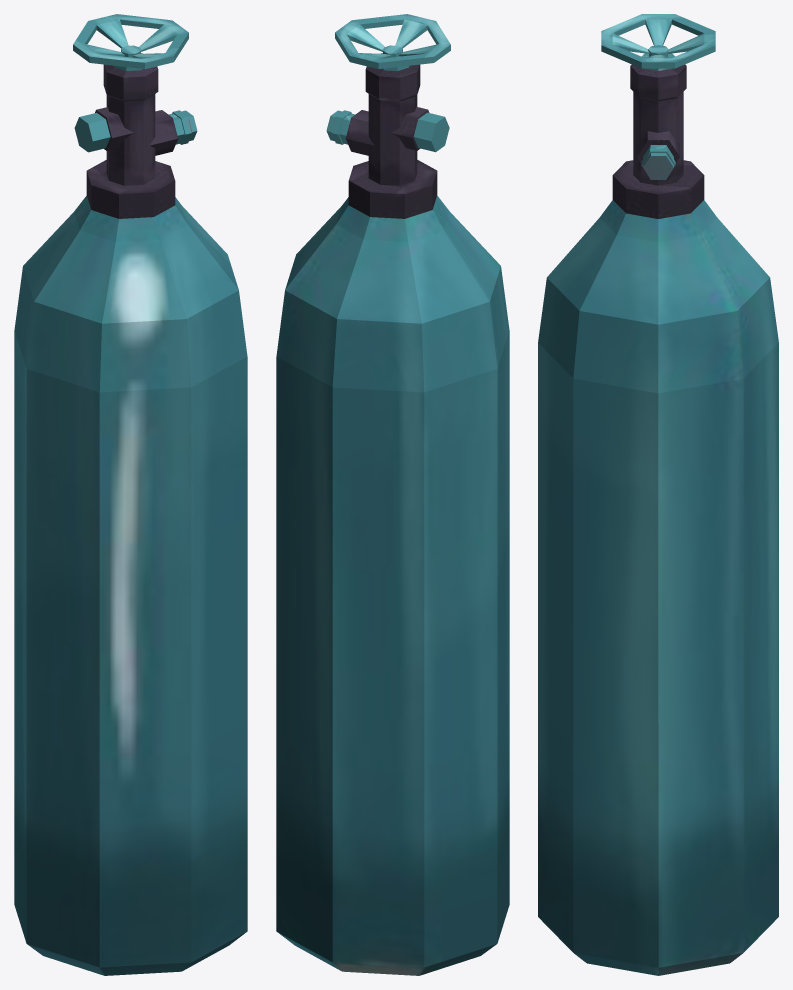
3 views of the same model, side by side, from view 1: azimuth 30°, elevation 25°; view 2: azimuth 150°, elevation 25°; view 3: azimuth 270°, elevation 25° (orthographic).
Visible parts, largest first — view 1: o2_cylinder; view 2: o2_cylinder; view 3: o2_cylinder.
Boxes of the visible parts, x1,y1,x2,y2 form: o2_cylinder: (14, 14, 247, 975); o2_cylinder: (276, 14, 509, 975); o2_cylinder: (538, 14, 778, 975).
Size of the model in its own units: 113 by 465 by 113.
